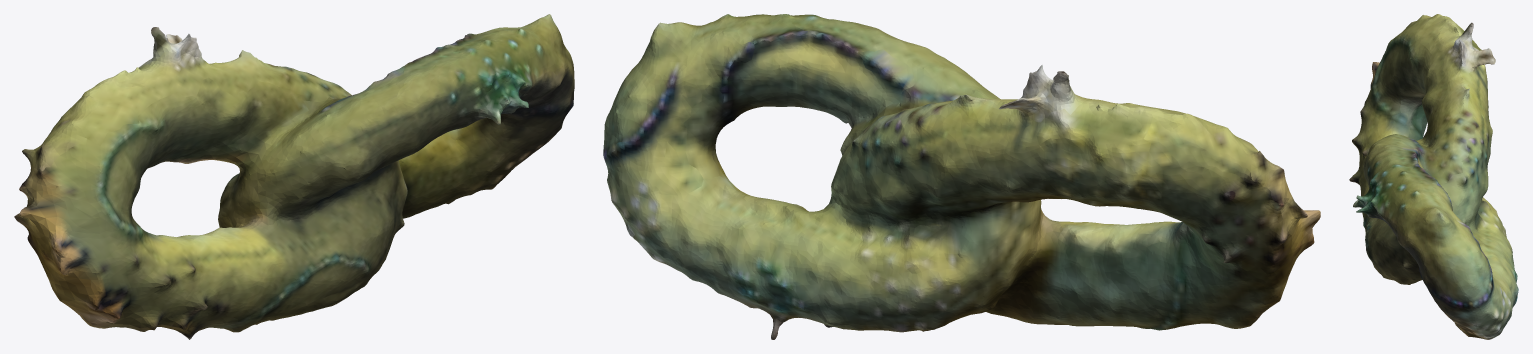
File: LINK-ROT.glb
The picture shows the model from 3 angles, left to right: view 1: azimuth 30°, elevation 25°; view 2: azimuth 150°, elevation 25°; view 3: azimuth 270°, elevation 25°; orthographic projection. The views are drawn at different scales.
Parts seen in each view (by area): view 1: mesh; view 2: mesh; view 3: mesh.
Part boxes in pixels (<box>): mesh: <box>14,14,574,339</box>; mesh: <box>603,14,1320,339</box>; mesh: <box>1349,14,1518,339</box>.
Size of the model in its own units: 0.1718 by 0.0787 by 0.056.
1 material, 1 textured.
